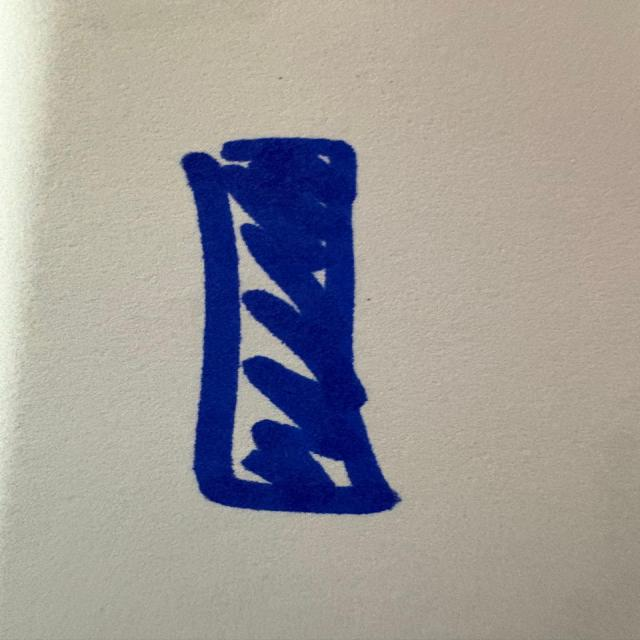Rectangle: (167, 128, 420, 521)
